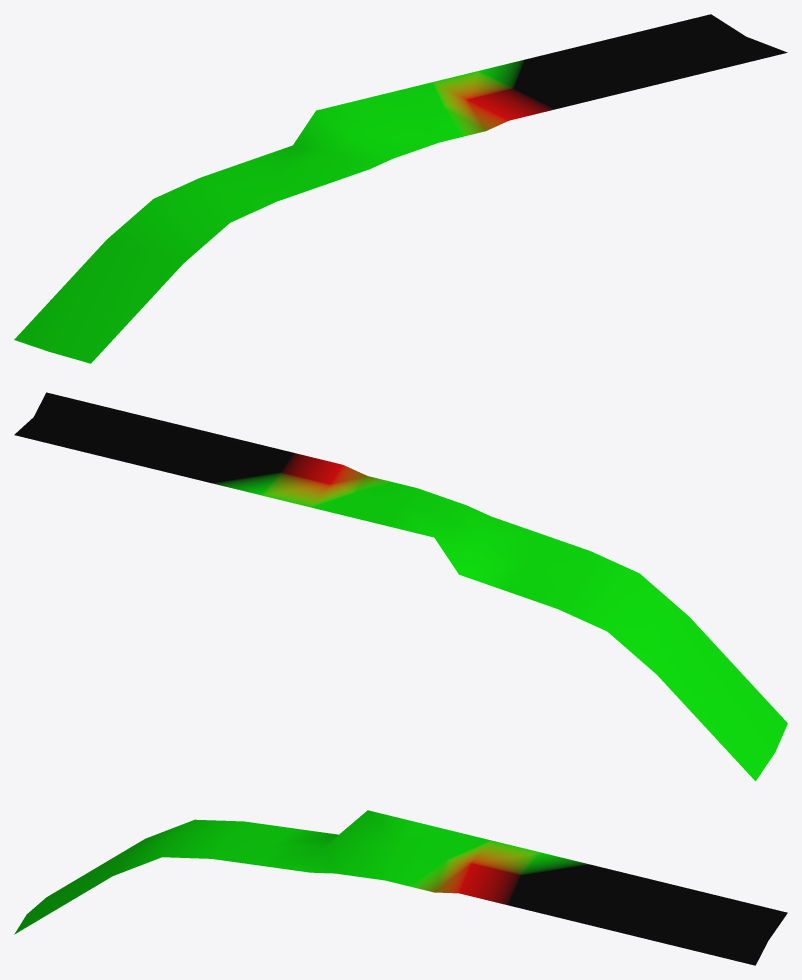
Rendered from Section_RocksCapR_CoastMountains_Terrain.fbx.
3 renders of one model, top to bottom at view 1: azimuth 30°, elevation 25°; view 2: azimuth 150°, elevation 25°; view 3: azimuth 330°, elevation 25°, orthographic. The views are drawn at different scales.
Visible parts, largest first — view 1: Section_RocksCapR_CoastMountains_Terrain; view 2: Section_RocksCapR_CoastMountains_Terrain; view 3: Section_RocksCapR_CoastMountains_Terrain.
Boxes of the visible parts, bbox=[...] form: Section_RocksCapR_CoastMountains_Terrain: bbox=[14, 14, 787, 363]; Section_RocksCapR_CoastMountains_Terrain: bbox=[14, 392, 787, 781]; Section_RocksCapR_CoastMountains_Terrain: bbox=[14, 810, 787, 965].
Size of the model in its own units: 7750 by 1600 by 1000.
